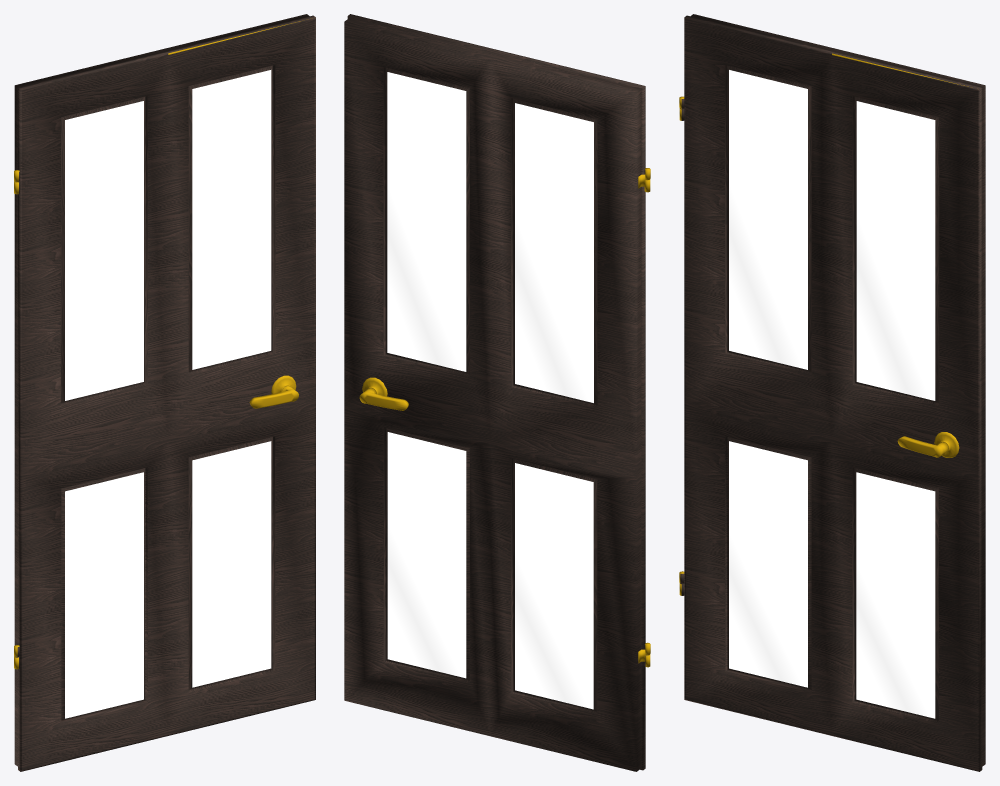
File: door.glb
3 renders of one model, left to right at view 1: azimuth 30°, elevation 25°; view 2: azimuth 150°, elevation 25°; view 3: azimuth 330°, elevation 25°, orthographic.
Visible parts, largest first — view 1: Door; view 2: Door; view 3: Door.
Part boxes in pixels (x1,y1,x2,y2): Door: [14, 14, 315, 771]; Door: [344, 14, 650, 771]; Door: [679, 14, 985, 771].
Bounding box in the file's own units: 27.82 × 60.35 × 4.7.
3 materials, 3 textured.
